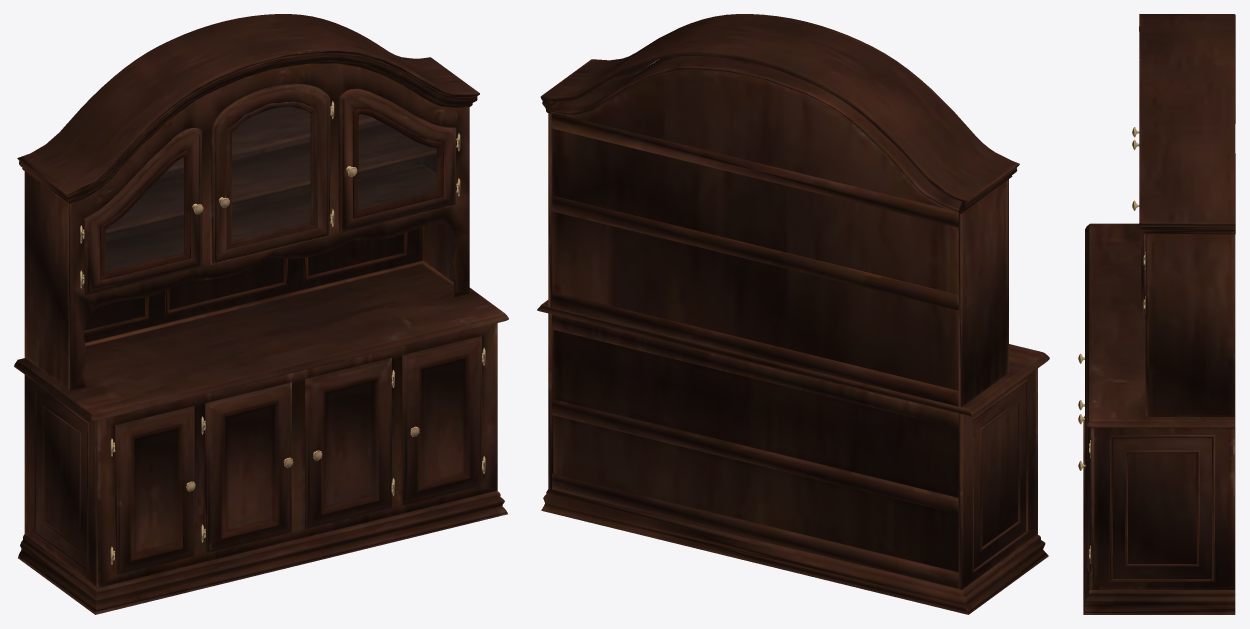
File: vintage_cabinet_01.glb
3 views of the same model, side by side, from view 1: azimuth 30°, elevation 25°; view 2: azimuth 150°, elevation 25°; view 3: azimuth 270°, elevation 25° (orthographic). The views are drawn at different scales.
Visible parts, largest first — view 1: vintage_cabinet_01_body, vintage_cabinet_01_door_03, vintage_cabinet_01_door_01, vintage_cabinet_01_door_04, vintage_cabinet_01_door_06, vintage_cabinet_01_door_07, vintage_cabinet_01_door_05, vintage_cabinet_01_door_02; view 2: vintage_cabinet_01_body; view 3: vintage_cabinet_01_body, vintage_cabinet_01_door_02, vintage_cabinet_01_door_04.
Boxes of the visible parts, bbox=[...] form: vintage_cabinet_01_body: bbox=[14, 14, 508, 614]; vintage_cabinet_01_door_03: bbox=[210, 83, 332, 264]; vintage_cabinet_01_door_01: bbox=[82, 127, 203, 295]; vintage_cabinet_01_door_04: bbox=[338, 88, 458, 233]; vintage_cabinet_01_door_06: bbox=[204, 382, 293, 553]; vintage_cabinet_01_door_07: bbox=[305, 357, 392, 529]; vintage_cabinet_01_door_05: bbox=[113, 406, 195, 575]; vintage_cabinet_01_door_02: bbox=[402, 336, 483, 505]; vintage_cabinet_01_body: bbox=[537, 14, 1049, 614]; vintage_cabinet_01_body: bbox=[1083, 14, 1235, 614]; vintage_cabinet_01_door_02: bbox=[1078, 427, 1090, 573]; vintage_cabinet_01_door_04: bbox=[1132, 200, 1145, 319].
Size of the model in its own units: 2.02 by 2.23 by 0.6698.
Materials: 3 (2 with a texture image).
